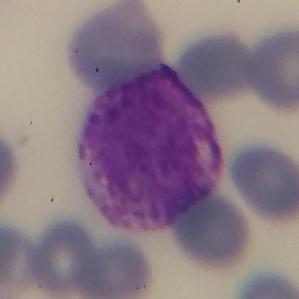Basophil: (70, 65, 226, 235)
RBC: (63, 0, 166, 93), (167, 188, 257, 272), (24, 216, 104, 298), (225, 138, 299, 225), (171, 29, 256, 104), (241, 23, 299, 114), (78, 236, 157, 299), (0, 220, 43, 297), (229, 267, 299, 299), (0, 128, 21, 208)
